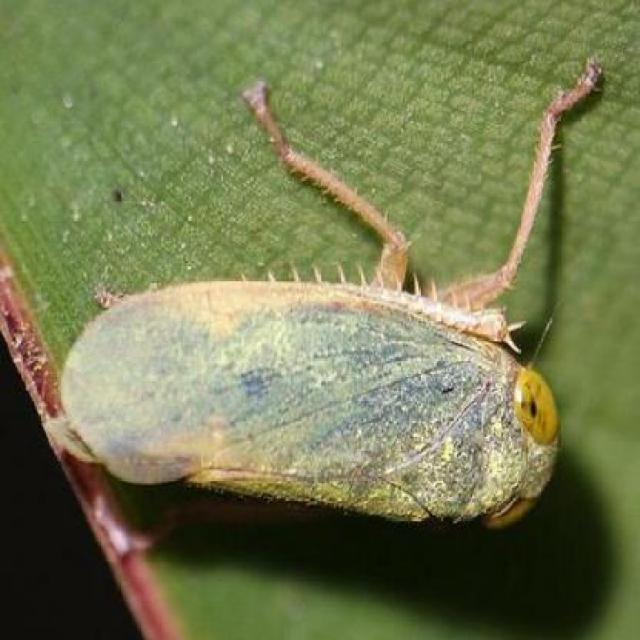green-leafhopper: (47, 236, 555, 530)
